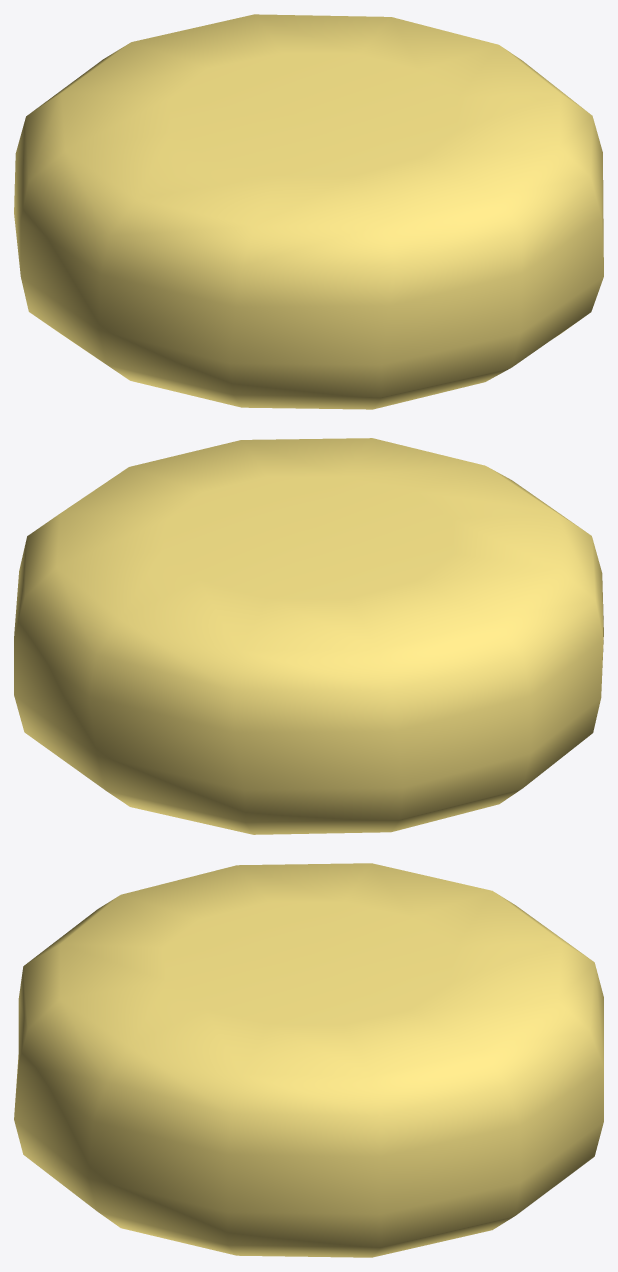
The model's file is candy_assets1.fbx.
3 views of the same model, one above another, from view 1: azimuth 30°, elevation 25°; view 2: azimuth 150°, elevation 25°; view 3: azimuth 270°, elevation 25° (orthographic).
Parts seen in each view (by area): view 1: candy_assets1; view 2: candy_assets1; view 3: candy_assets1.
Boxes of the visible parts, box(x1,y1,x2,y2) form: candy_assets1: box(14, 14, 603, 409); candy_assets1: box(14, 438, 603, 834); candy_assets1: box(14, 863, 603, 1257).
Bounding box in the file's own units: 317 × 116 × 316.
1 material, 1 textured.
